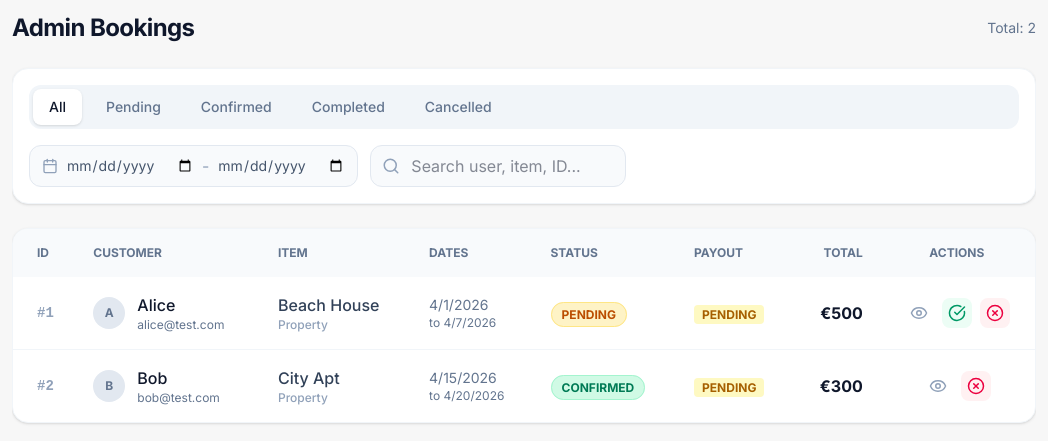
Test: BookingsPage › filtering by date range start: excludes bookings before start date
Expected: the text "Alice" is shown, [137,295,175,315]
Type "2026-04-10" into the date field named "Filter bookings from date". click: (130, 166)
box: [66,156,194,176]
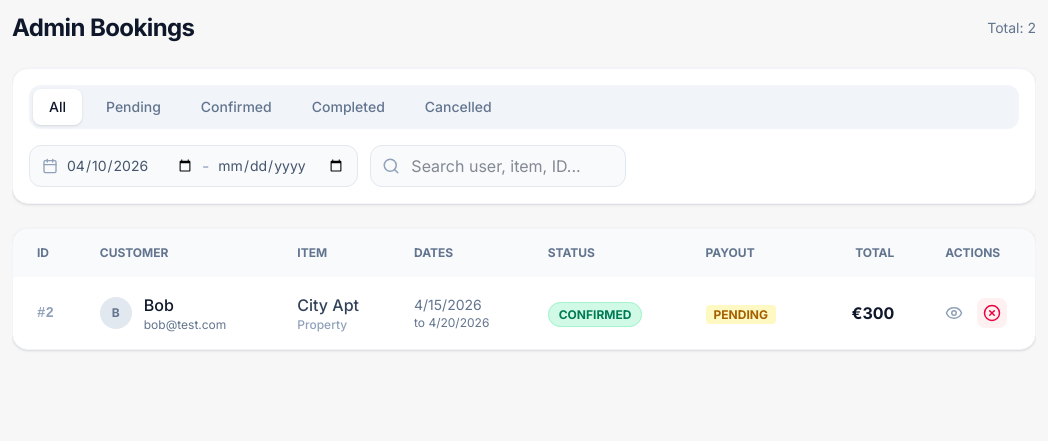
Expected: the text "Bob" is shown, [144,295,174,315]
Expected: the text "Alice" is gone
